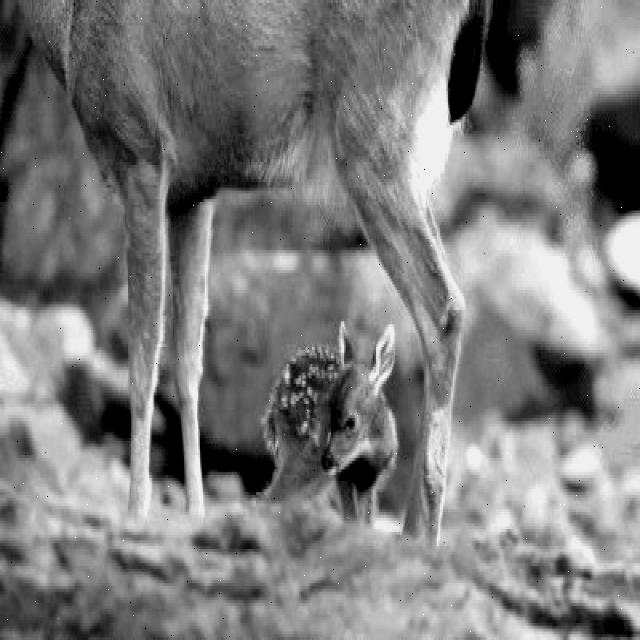deer: (276, 312, 411, 511)
